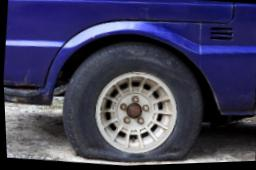Bumper: (1, 39, 69, 110)
Fender: (82, 2, 221, 61)
